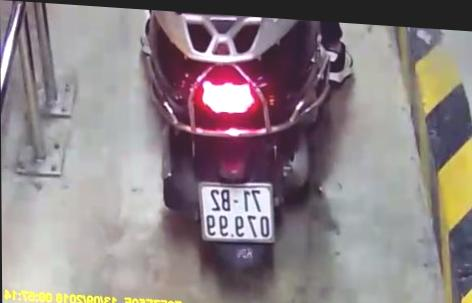License_Plate: (199, 173, 282, 250)
